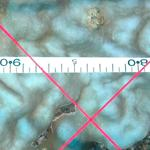alive: (5, 6, 147, 148)
